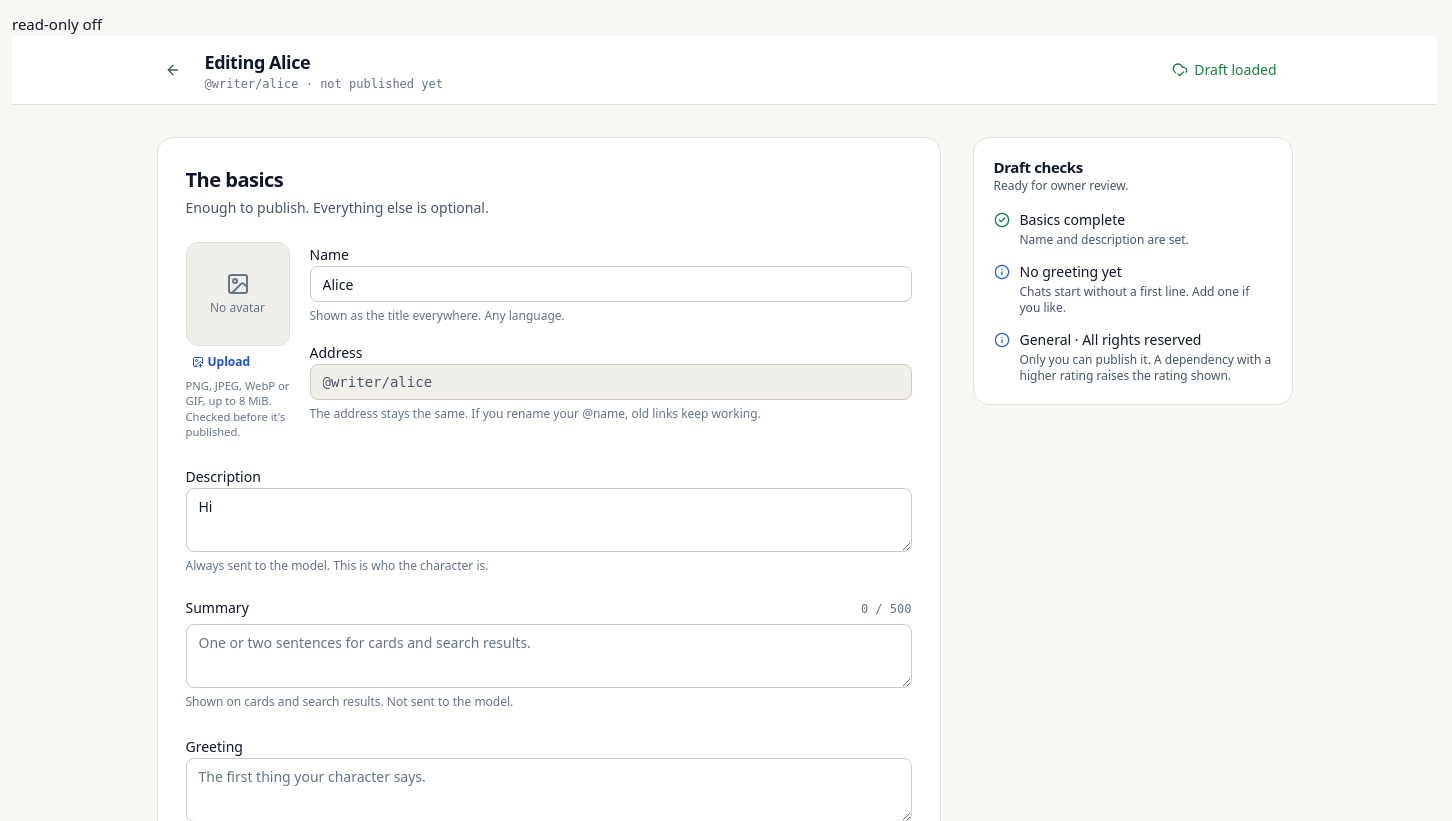
it: Editor › reports an autosave that hit read-only mode to the site-wide notice
Type "x" into the text box labelled "Summary". click: (548, 656)
box: [186,624,912,688]
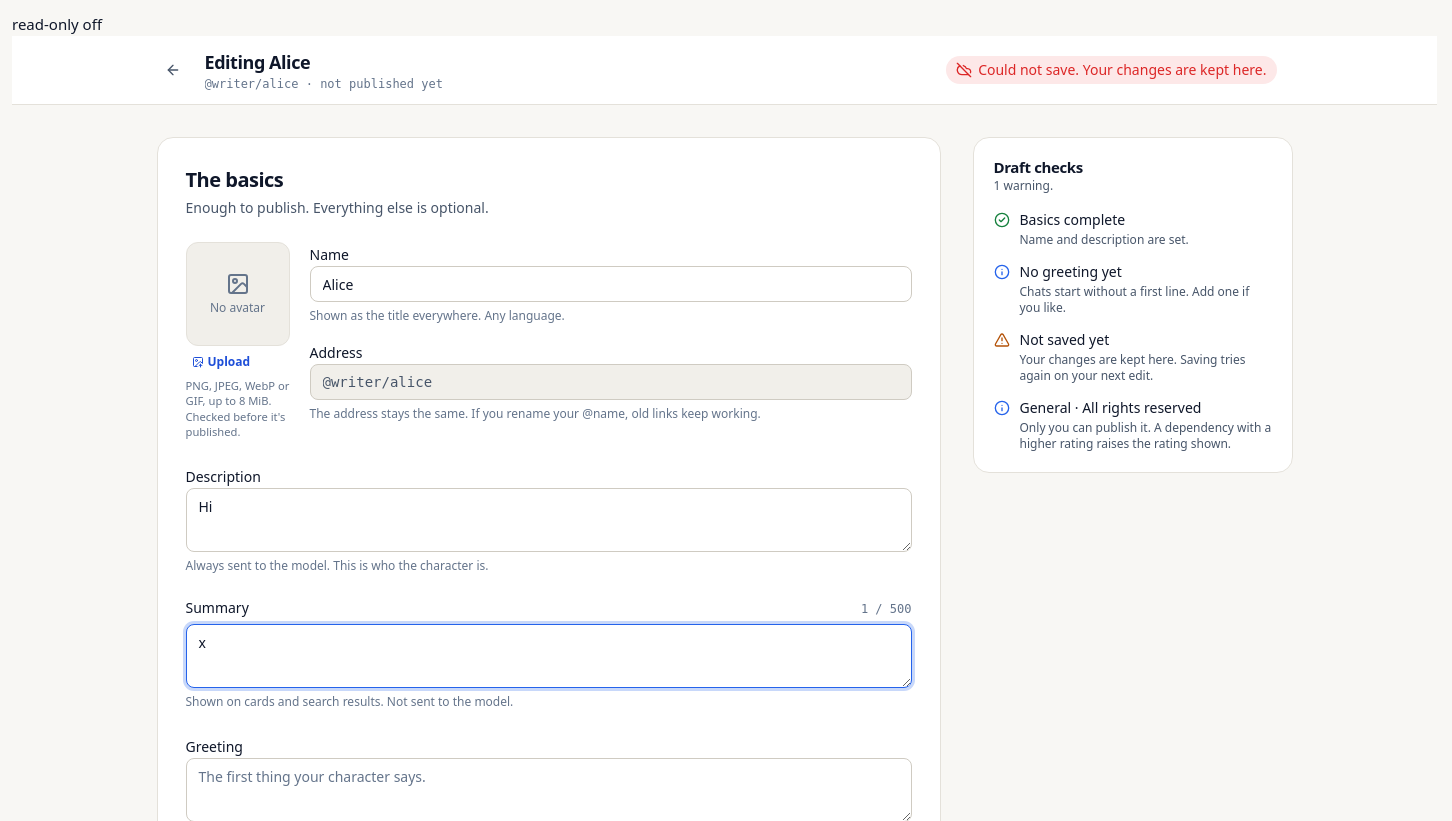
Expected: the text "read-only on" is shown, [12,14,102,34]
Now the text "Could not save. Your changes are kept here." is shown, box [978,60,1266,80]
